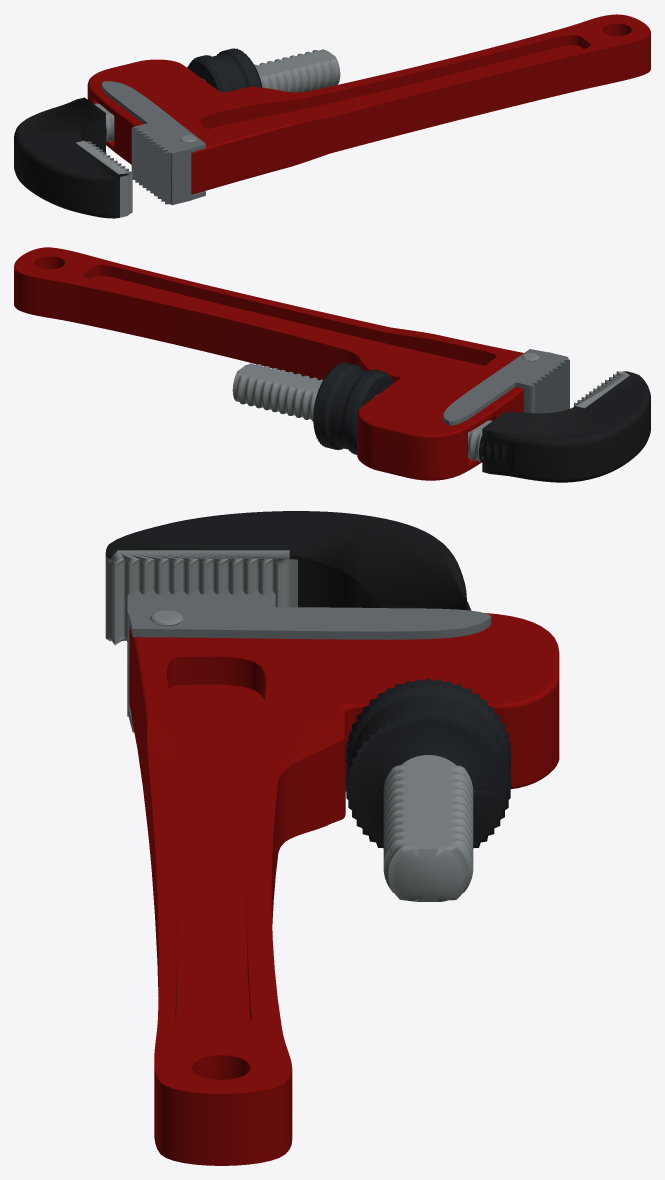
The picture shows the model from 3 angles, top to bottom: view 1: azimuth 30°, elevation 25°; view 2: azimuth 150°, elevation 25°; view 3: azimuth 270°, elevation 25°; orthographic projection. The views are drawn at different scales.
Visible parts, largest first — view 1: part_006_Cast_frame, part_004_Floating_hook_jaw, part_002_Heel_jaw_saddle, part_005_Floating_hook_jaw, part_003_Adjustment_nut; view 2: part_006_Cast_frame, part_004_Floating_hook_jaw, part_002_Heel_jaw_saddle, part_005_Floating_hook_jaw, part_003_Adjustment_nut; view 3: part_006_Cast_frame, part_005_Floating_hook_jaw, part_004_Floating_hook_jaw, part_003_Adjustment_nut, part_002_Heel_jaw_saddle.
Part boxes in pixels (box(x1,y1,x2,y2)): part_006_Cast_frame: box(87, 14, 650, 194); part_004_Floating_hook_jaw: box(14, 97, 128, 218); part_002_Heel_jaw_saddle: box(102, 81, 205, 205); part_005_Floating_hook_jaw: box(76, 49, 340, 217); part_003_Adjustment_nut: box(187, 48, 262, 92); part_006_Cast_frame: box(14, 247, 523, 480); part_004_Floating_hook_jaw: box(479, 371, 650, 482); part_002_Heel_jaw_saddle: box(443, 349, 569, 425); part_005_Floating_hook_jaw: box(232, 363, 629, 462); part_003_Adjustment_nut: box(313, 362, 393, 454); part_006_Cast_frame: box(129, 613, 559, 1165); part_005_Floating_hook_jaw: box(105, 550, 473, 901); part_004_Floating_hook_jaw: box(105, 511, 470, 610); part_003_Adjustment_nut: box(345, 678, 511, 848); part_002_Heel_jaw_saddle: box(127, 590, 491, 732).
Size of the model in its own units: 0.1579 by 0.019 by 0.052.
